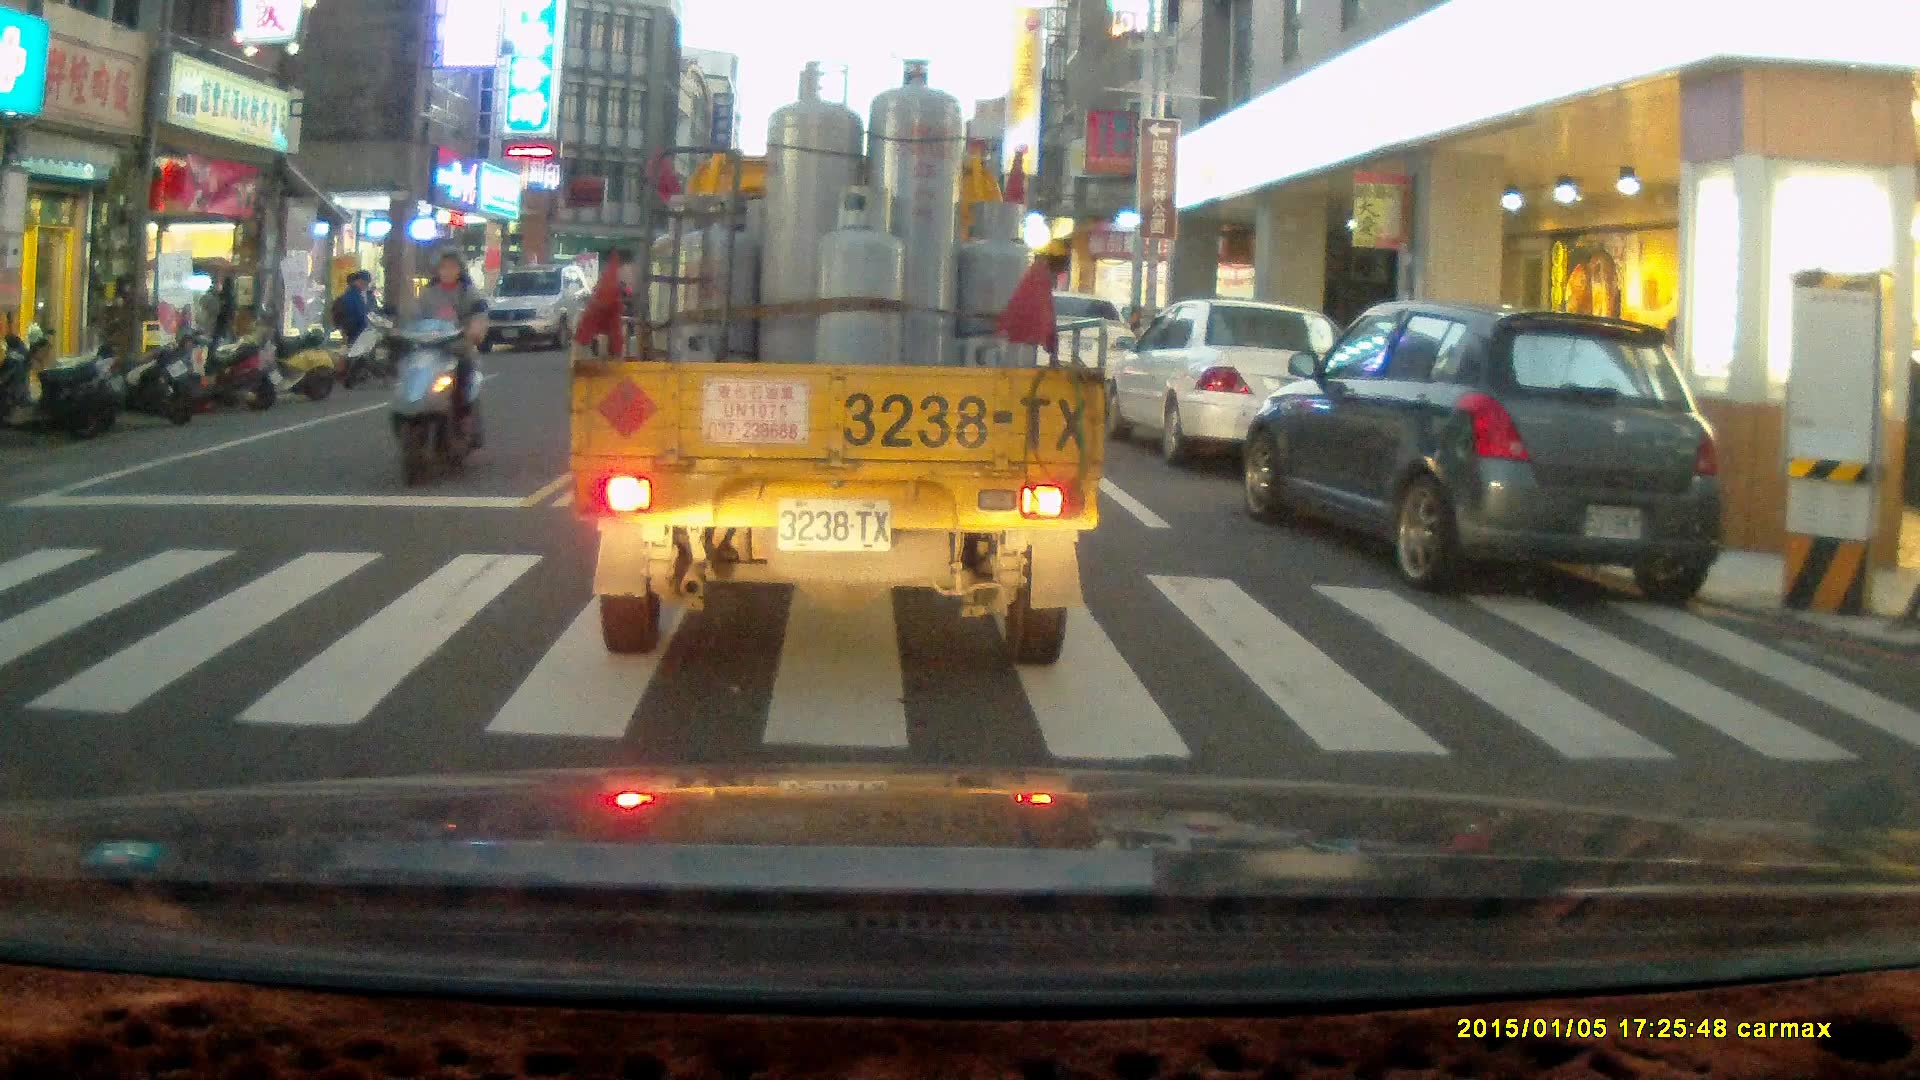pedestrian: (335, 268, 372, 379), (197, 271, 229, 375)
rider: (375, 244, 490, 489)
vehicle: (567, 62, 1110, 667), (1239, 295, 1728, 603), (1108, 299, 1362, 473), (991, 295, 1154, 428), (471, 268, 587, 359)
